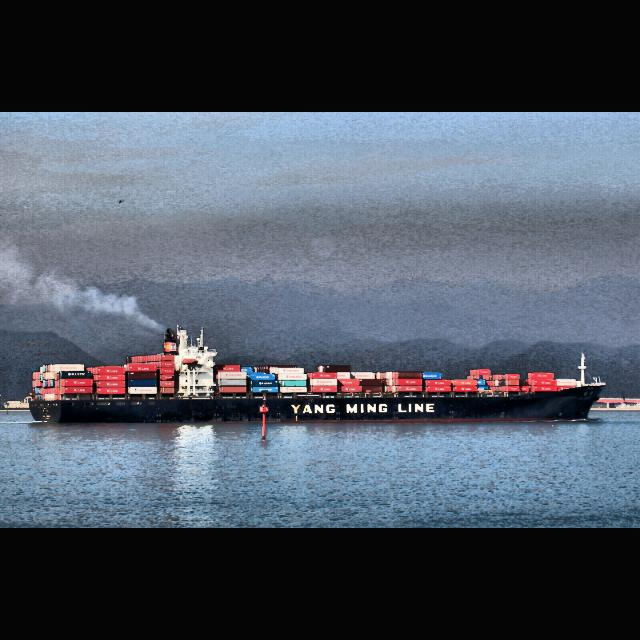container: (27, 323, 607, 427)
tug: (257, 392, 271, 443)
